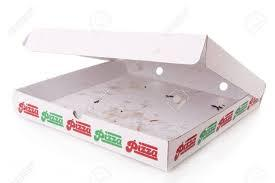Cardboard: (9, 13, 275, 179)
